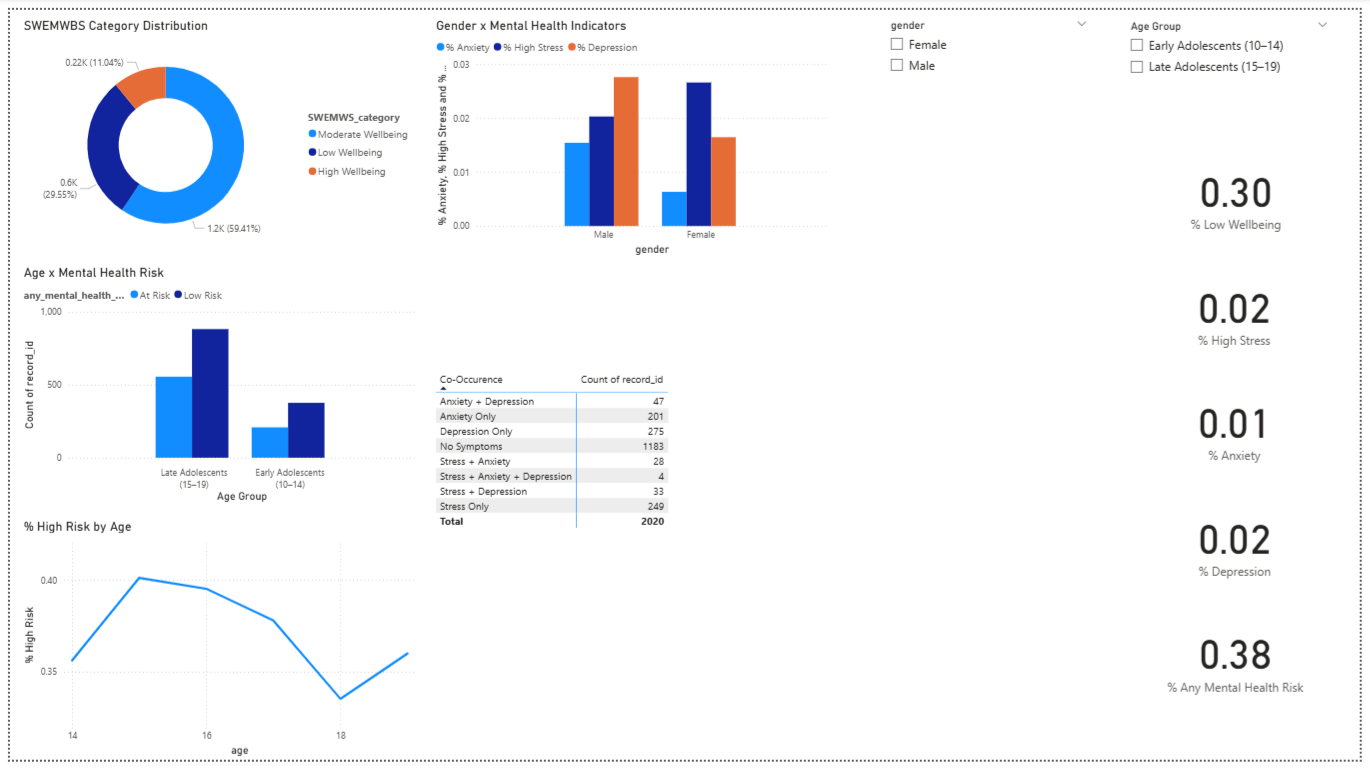

Layout of this report page (visuals, bound fields, positions):
{"tool":"powerbi","page":{"name":"Dashboard 4 — Mental Wellbeing & Psychological Health","canvas":[1800,1000],"ordinal":3},"visuals":[{"type":"slicer","fields":{"Values":["FINAL_Clean_Dataset.Age Group"]},"box":[1481.2,7.5,287.5,117.5],"z":0},{"type":"slicer","fields":{"Values":["FINAL_Clean_Dataset.gender"]},"box":[1161.7,6.7,286.7,118.3],"z":1000},{"type":"card","fields":{"Values":["FINAL_Clean_Dataset.% High Stress"]},"box":[1548.4,324.8,169,154],"z":2000},{"type":"card","fields":{"Values":["FINAL_Clean_Dataset.% Anxiety"]},"box":[1548.4,478.8,169,154],"z":3000},{"type":"card","fields":{"Values":["FINAL_Clean_Dataset.% Depression"]},"box":[1549.4,633.5,166.7,153.3],"z":4000},{"type":"card","fields":{"Values":["FINAL_Clean_Dataset.% Any Mental Health Risk"]},"box":[1516.1,786.8,235,155],"z":5000},{"type":"card","fields":{"Values":["FINAL_Clean_Dataset.% Low Wellbeing"]},"box":[1550,170,170,155],"z":6000},{"type":"donutChart","title":"SWEMWBS Category Distribution","fields":{"Y":["CountNonNull(FINAL_Clean_Dataset.record_id)"],"Category":["FINAL_Clean_Dataset.SWEMWS_category"]},"box":[14,10,532,322],"z":7000},{"type":"clusteredColumnChart","title":"Age x Mental Health Risk","fields":{"Category":["FINAL_Clean_Dataset.Age Group"],"Y":["CountNonNull(FINAL_Clean_Dataset.record_id)"],"Series":["FINAL_Clean_Dataset.any_mental_health_risk"]},"box":[14,340,532,322],"z":8000},{"type":"lineChart","title":"% High Risk by Age","fields":{"Category":["FINAL_Clean_Dataset.age"],"Y":["FINAL_Clean_Dataset.% High Risk"]},"box":[14,678,532,322],"z":9000},{"type":"clusteredColumnChart","title":"Gender x Mental Health Indicators","fields":{"Category":["FINAL_Clean_Dataset.gender"],"Y":["FINAL_Clean_Dataset.% Anxiety","FINAL_Clean_Dataset.% High Stress","FINAL_Clean_Dataset.% Depression"]},"box":[564,10,532,322],"z":10000},{"type":"pivotTable","fields":{"Rows":["FINAL_Clean_Dataset.Co-Occurence"],"Values":["CountNonNull(FINAL_Clean_Dataset.record_id)"]},"box":[563.3,476.7,336.7,228.3],"z":11000}]}

Visuals, with their boxes in screenshot pixels (x1, y1, x2, y2), scaled from the page's 1800x1000 canvas onto the 1370x768 screenshot:
slicer - FINAL_Clean_Dataset.Age Group: x1=1127, y1=6, x2=1346, y2=96
slicer - FINAL_Clean_Dataset.gender: x1=884, y1=5, x2=1102, y2=96
card - FINAL_Clean_Dataset.% High Stress: x1=1179, y1=249, x2=1307, y2=368
card - FINAL_Clean_Dataset.% Anxiety: x1=1179, y1=368, x2=1307, y2=486
card - FINAL_Clean_Dataset.% Depression: x1=1179, y1=487, x2=1306, y2=604
card - FINAL_Clean_Dataset.% Any Mental Health Risk: x1=1154, y1=604, x2=1333, y2=723
card - FINAL_Clean_Dataset.% Low Wellbeing: x1=1180, y1=131, x2=1309, y2=250
"SWEMWBS Category Distribution" donutChart: x1=11, y1=8, x2=416, y2=255
"Age x Mental Health Risk" clusteredColumnChart: x1=11, y1=261, x2=416, y2=508
"% High Risk by Age" lineChart: x1=11, y1=521, x2=416, y2=767
"Gender x Mental Health Indicators" clusteredColumnChart: x1=429, y1=8, x2=834, y2=255
pivotTable - FINAL_Clean_Dataset.Co-Occurence x CountNonNull(FINAL_Clean_Dataset.record_id): x1=429, y1=366, x2=685, y2=541
